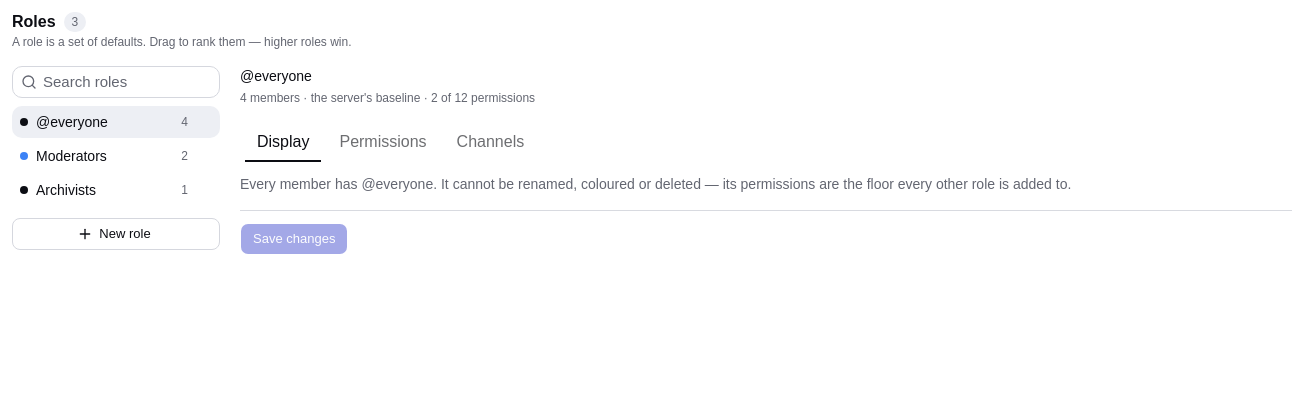
RolesPage › keeps channel overrides inside the selected role
Expected: the list named "Roles" is shown, 12,106 -> 220,206
Click the button "Moderators 2": (102, 156) 12,140 -> 192,172
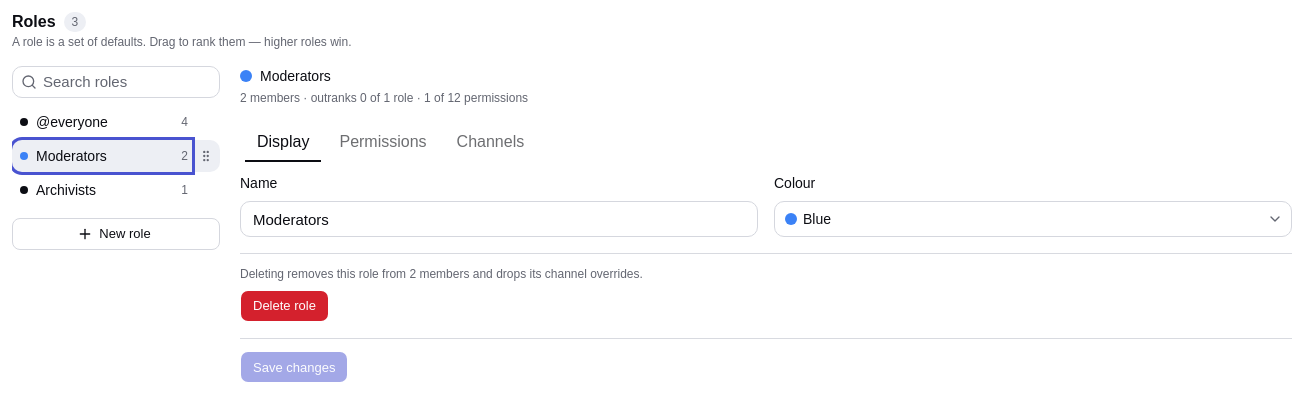
Click the tab "Channels": (490, 142) 444,126 -> 537,158
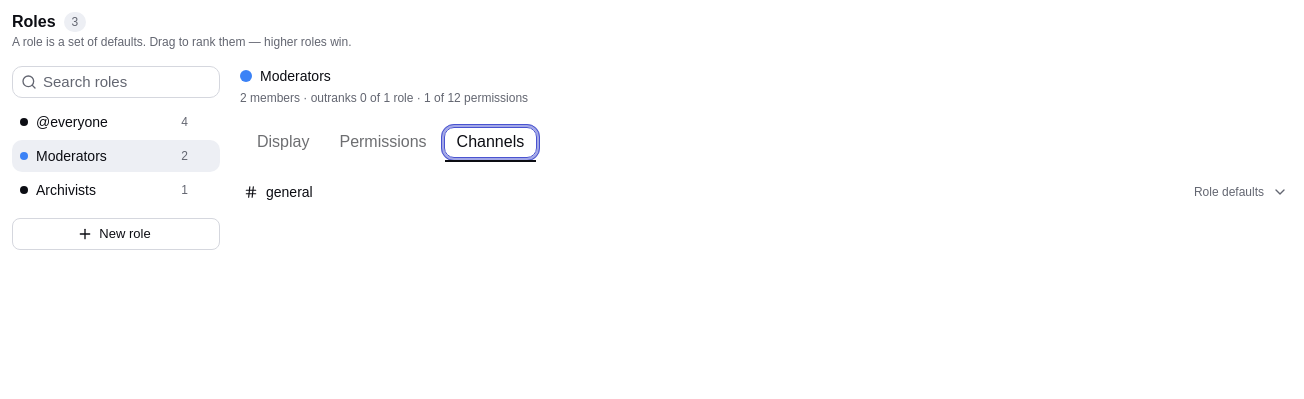
Result: the list named "Channel overrides for Moderators" is shown at 240,174 -> 1292,210
